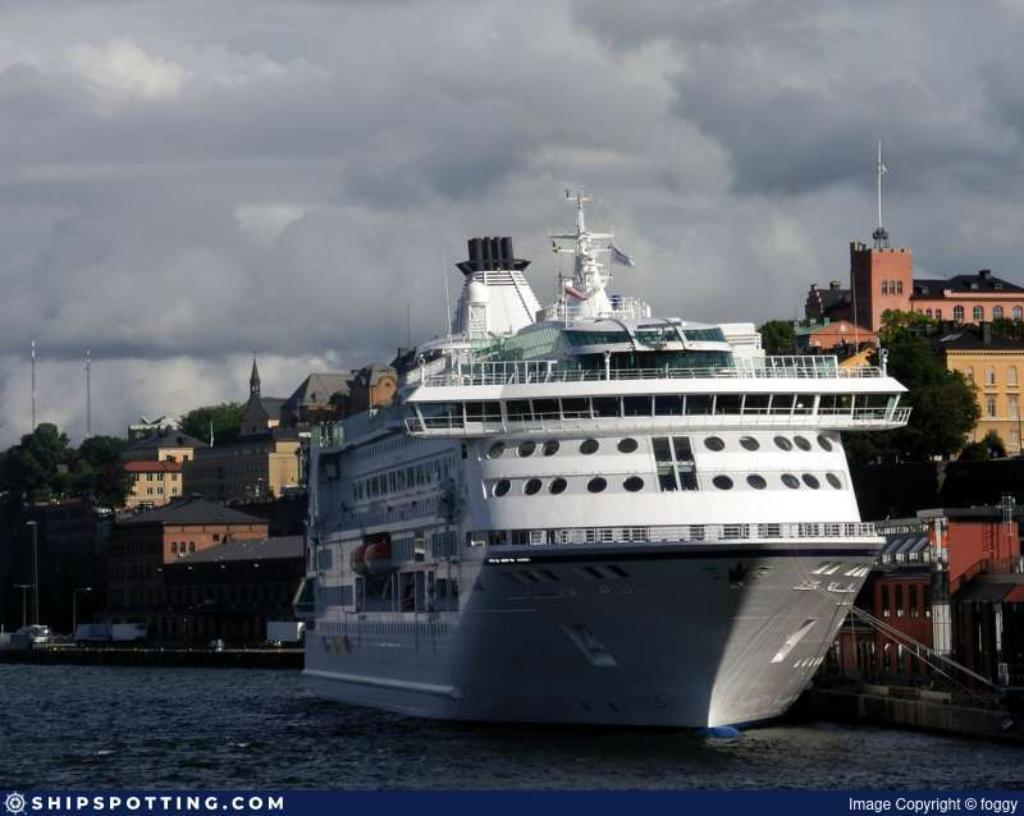PassengerShip: (300, 179, 932, 726)
